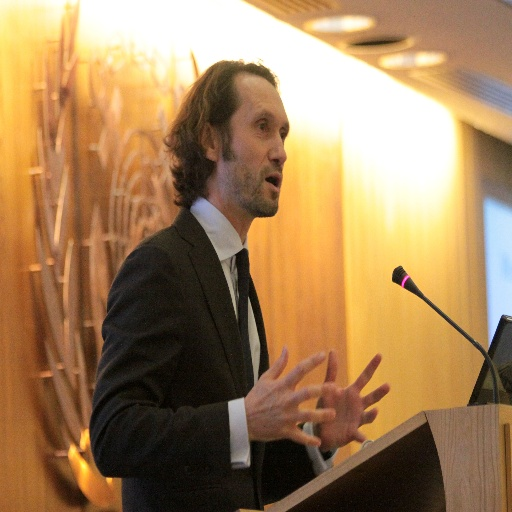hand: (238, 349, 336, 452), (314, 348, 390, 451)
